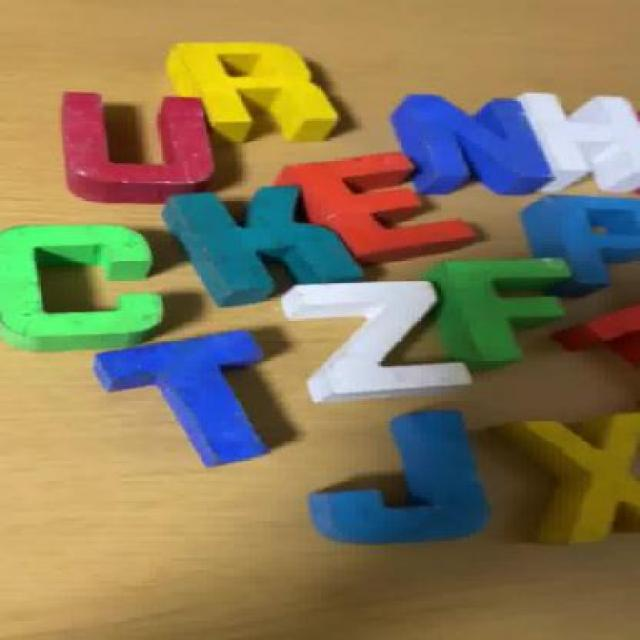C: (1, 226, 161, 351)
E: (264, 150, 478, 270)
F: (442, 255, 564, 370)
H: (518, 91, 639, 198)
J: (314, 410, 484, 545)
K: (172, 192, 370, 290)
N: (379, 94, 558, 198)
P: (519, 195, 638, 292)
R: (165, 41, 346, 145)
T: (94, 327, 280, 468)
U: (51, 87, 224, 199)
X: (502, 409, 640, 554)
Z: (292, 280, 462, 403)
